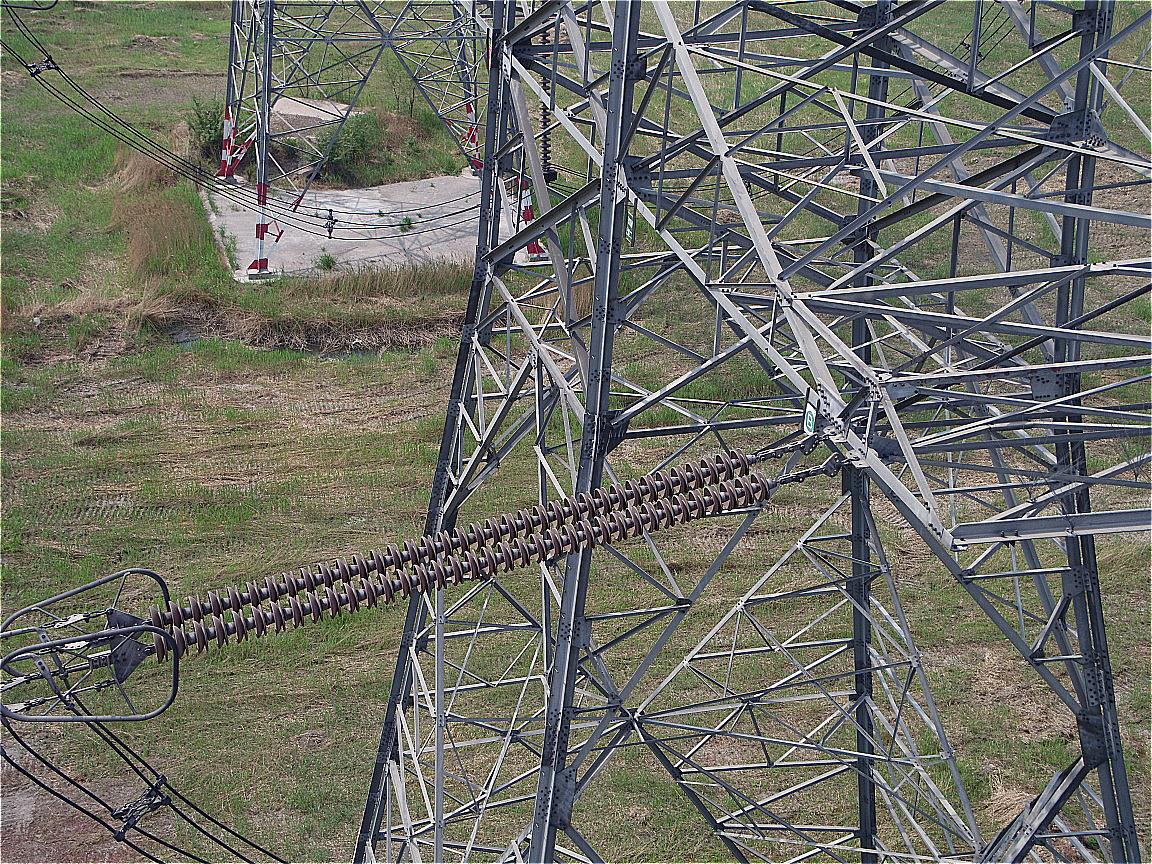insultor2: (133, 446, 806, 656)
